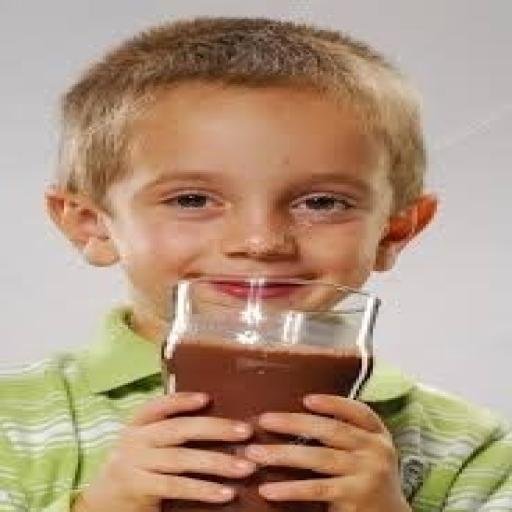drinking: (40, 81, 382, 510)
